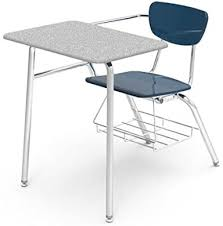desk_005.jpg: (3, 6, 220, 225)
